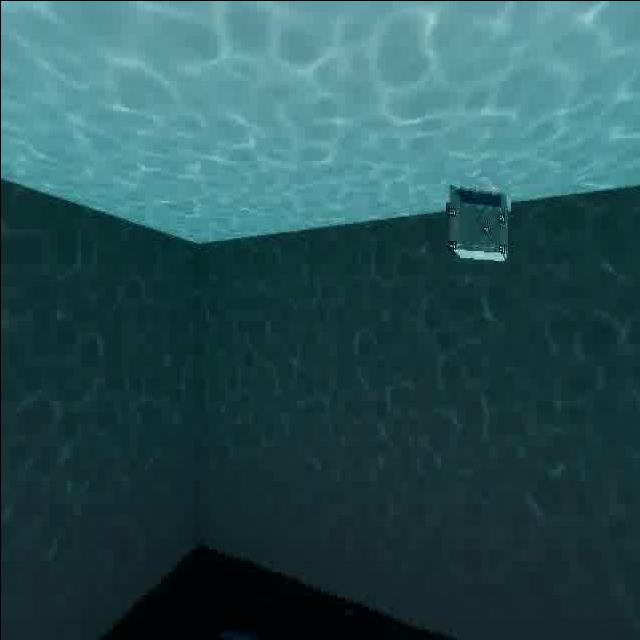Docking Station: (445, 176, 510, 271)
